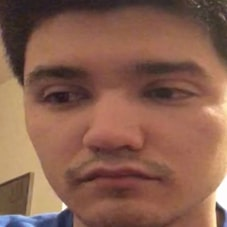drowsy: (25, 59, 220, 202)
